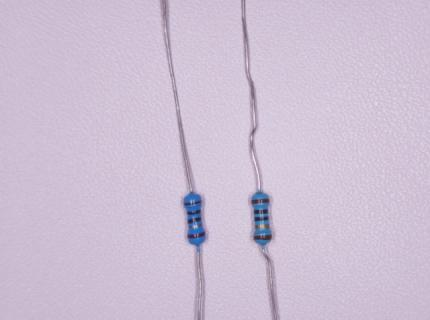Black band: (188, 218, 201, 224), (187, 210, 201, 215), (254, 209, 268, 214), (255, 217, 269, 221)
Brown band: (187, 232, 205, 238), (254, 234, 272, 240), (184, 200, 202, 205), (251, 199, 270, 203)
Gold band: (255, 225, 270, 229), (188, 224, 202, 228)
